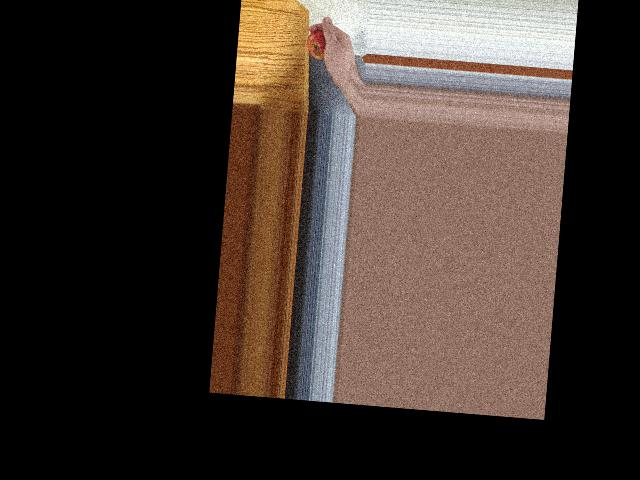apple: (303, 27, 337, 62)
